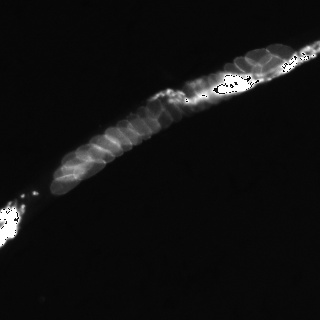embryo: (74, 159, 106, 180), (183, 83, 206, 112), (127, 113, 152, 139), (117, 121, 142, 146), (136, 106, 160, 132), (106, 128, 133, 151), (54, 164, 86, 183), (61, 148, 91, 168), (255, 54, 282, 76), (50, 176, 81, 195), (106, 127, 138, 145), (208, 73, 230, 99), (129, 118, 160, 136), (77, 144, 106, 162), (173, 91, 193, 117), (98, 137, 125, 156), (266, 44, 295, 61), (216, 71, 237, 94), (90, 135, 120, 151), (234, 58, 262, 75), (194, 78, 212, 104), (200, 76, 218, 102), (162, 100, 184, 121), (246, 49, 273, 66), (88, 148, 115, 164), (146, 97, 163, 120), (156, 108, 172, 130), (224, 63, 246, 78)
